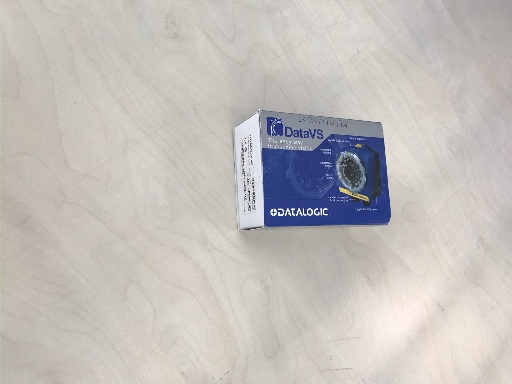Box: (233, 109, 394, 228)
